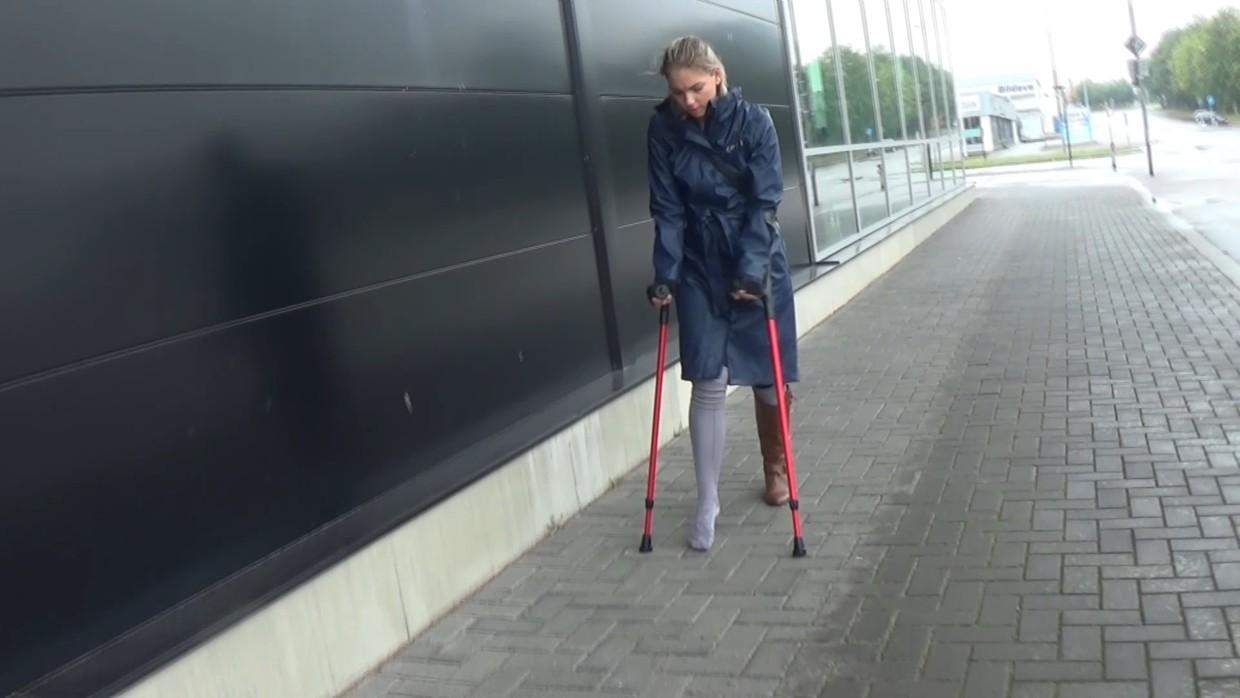crutches: (638, 35, 807, 557)
